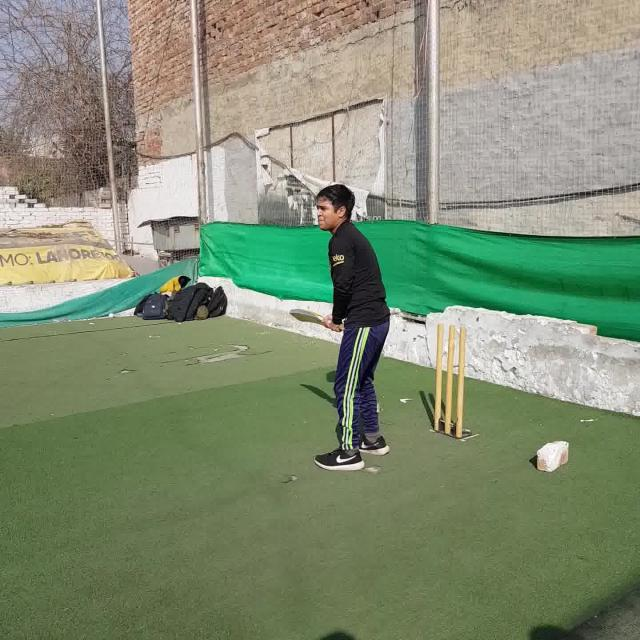bat: (289, 308, 345, 330)
